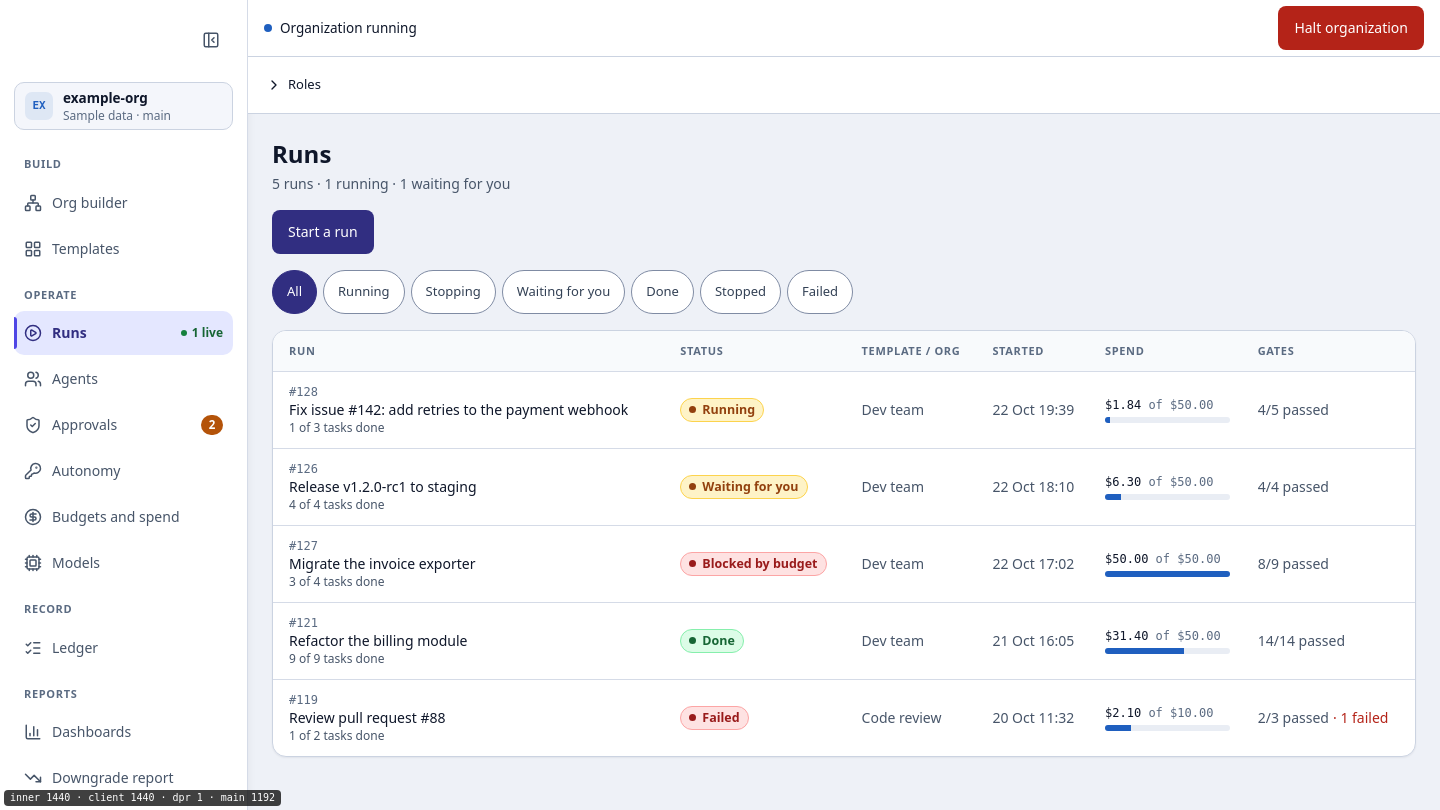
it: Start a run (first approval, the quickstart guide, section 9) › says so when the data source cannot start a run (sample data)
What coordinates should you click on to do the following:
click the button "Start a run"
I would click on:
 (323, 232)
Its box is [272,210,374,254].
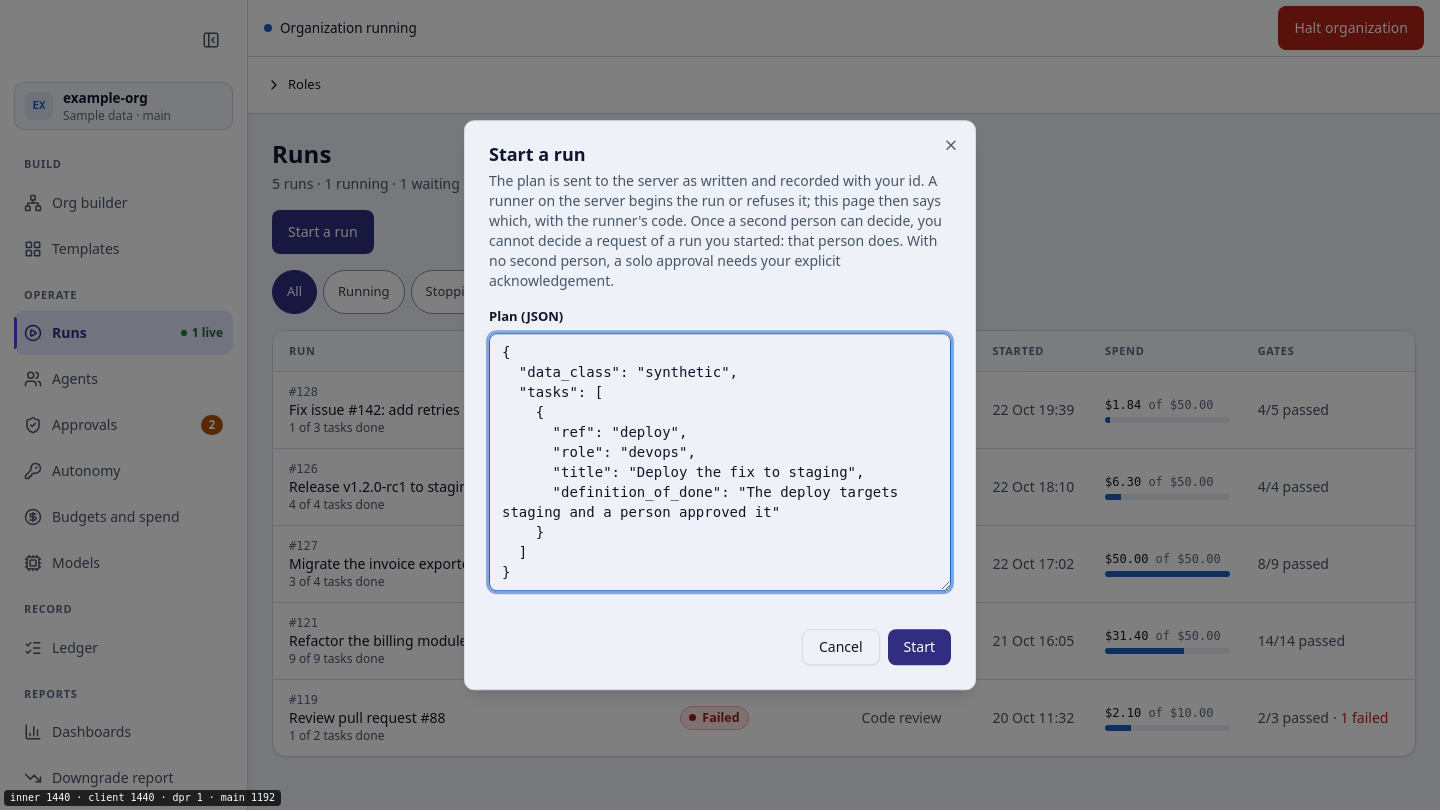
What coordinates should you click on to do the following:
click the button "Start"
I would click on:
 (919, 647)
Its box is [888,629,951,665].
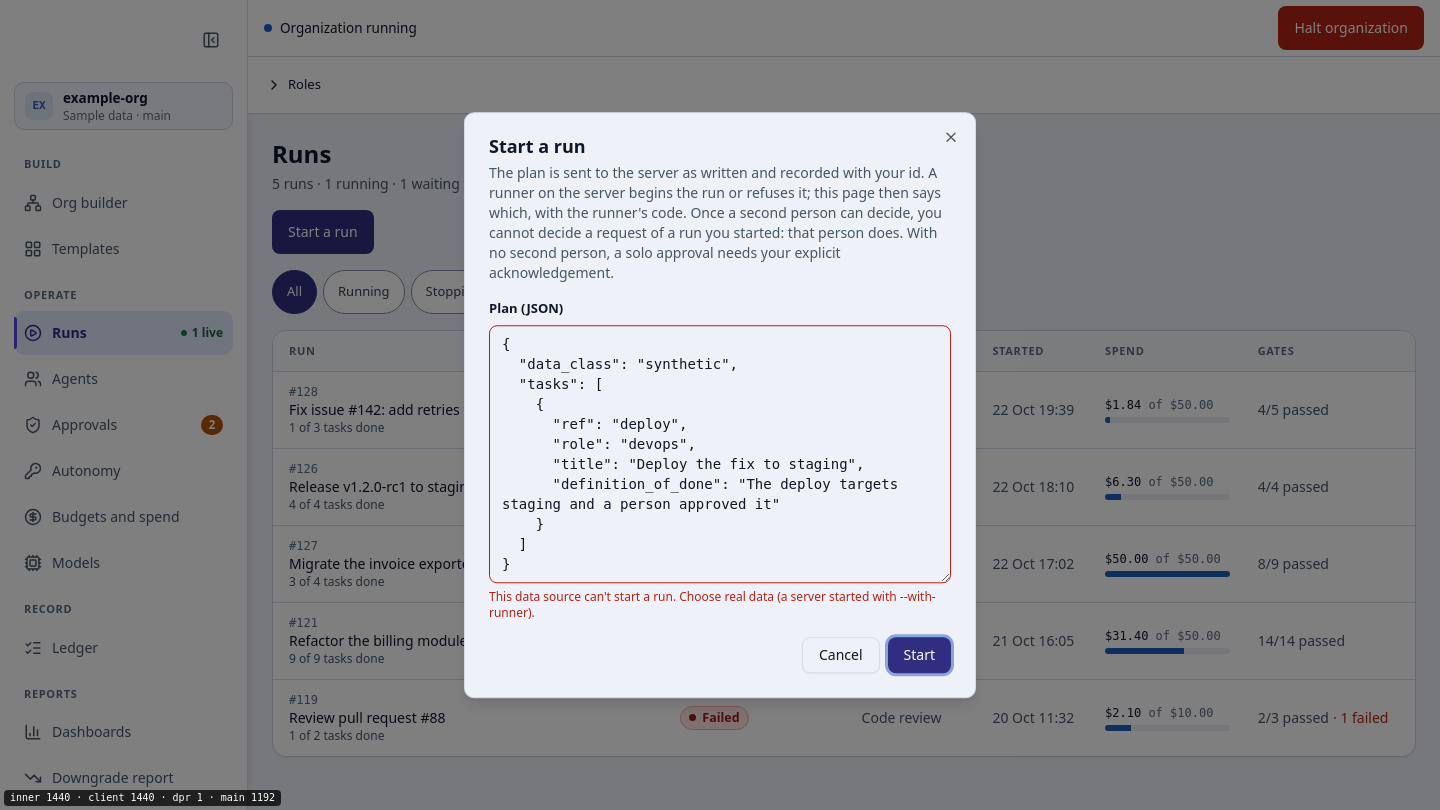
Check: the message shows "This data source can't start a run", box [489,588,936,621]
